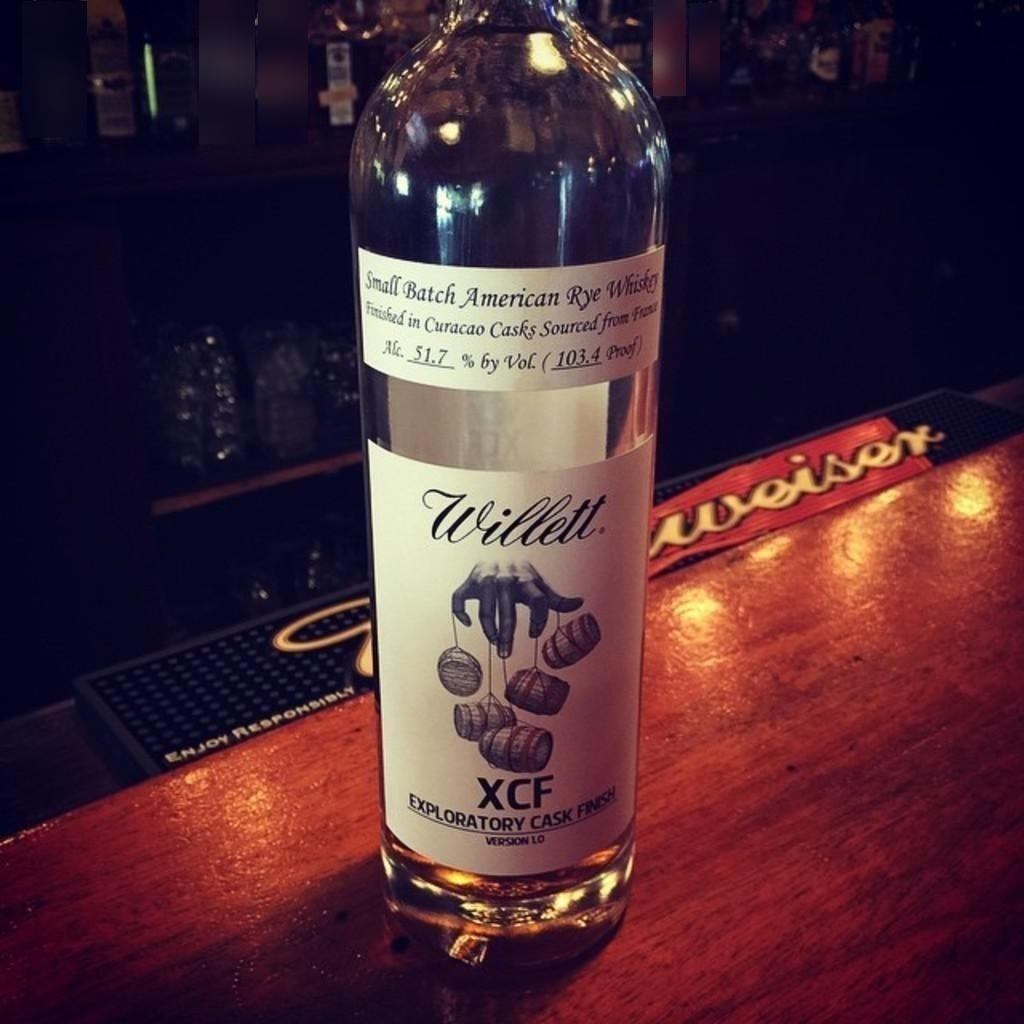bottle-glass: (341, 1, 681, 973)
